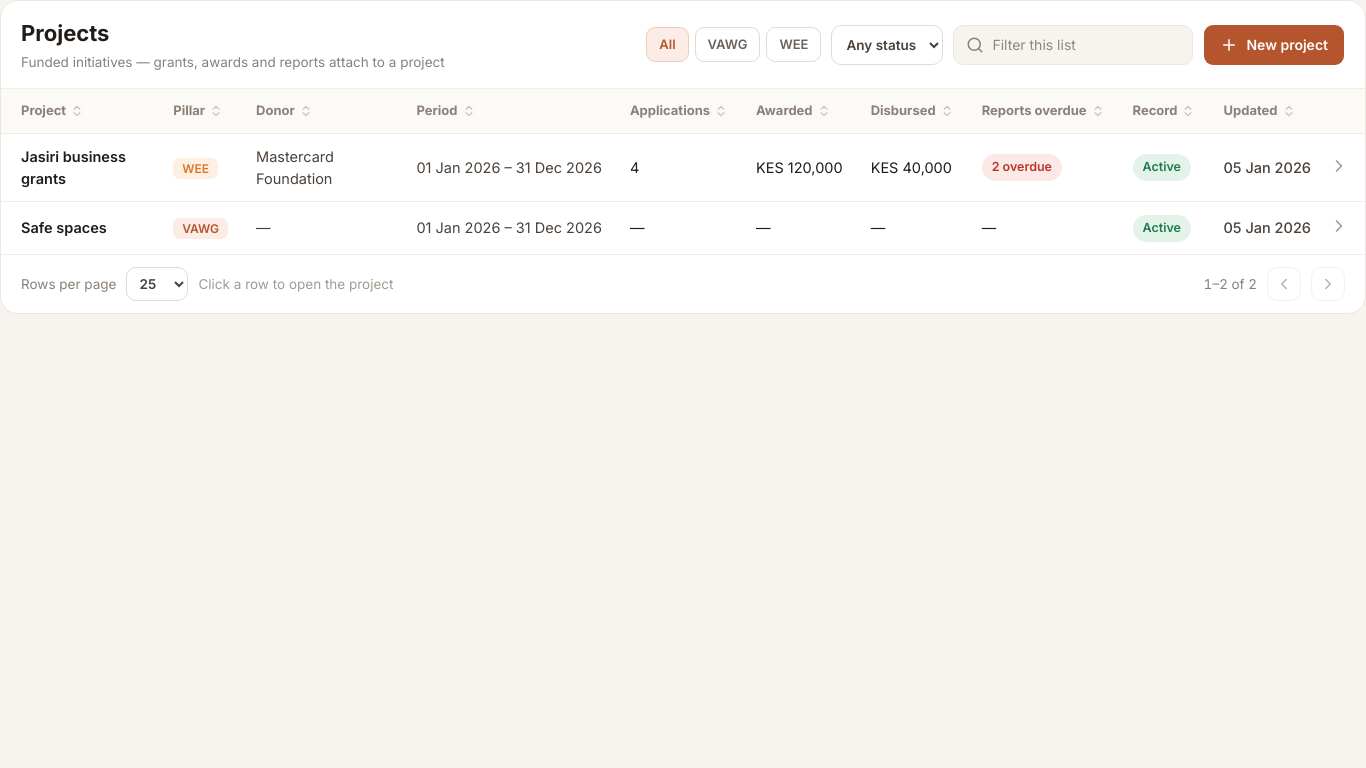
it: projects register › shows the API's refusal when a project cannot be deleted
The width and height of the screenshot is (1366, 768).
Step 1. Click the text "Jasiri business grants" → (73, 156), box [21, 148, 126, 187]
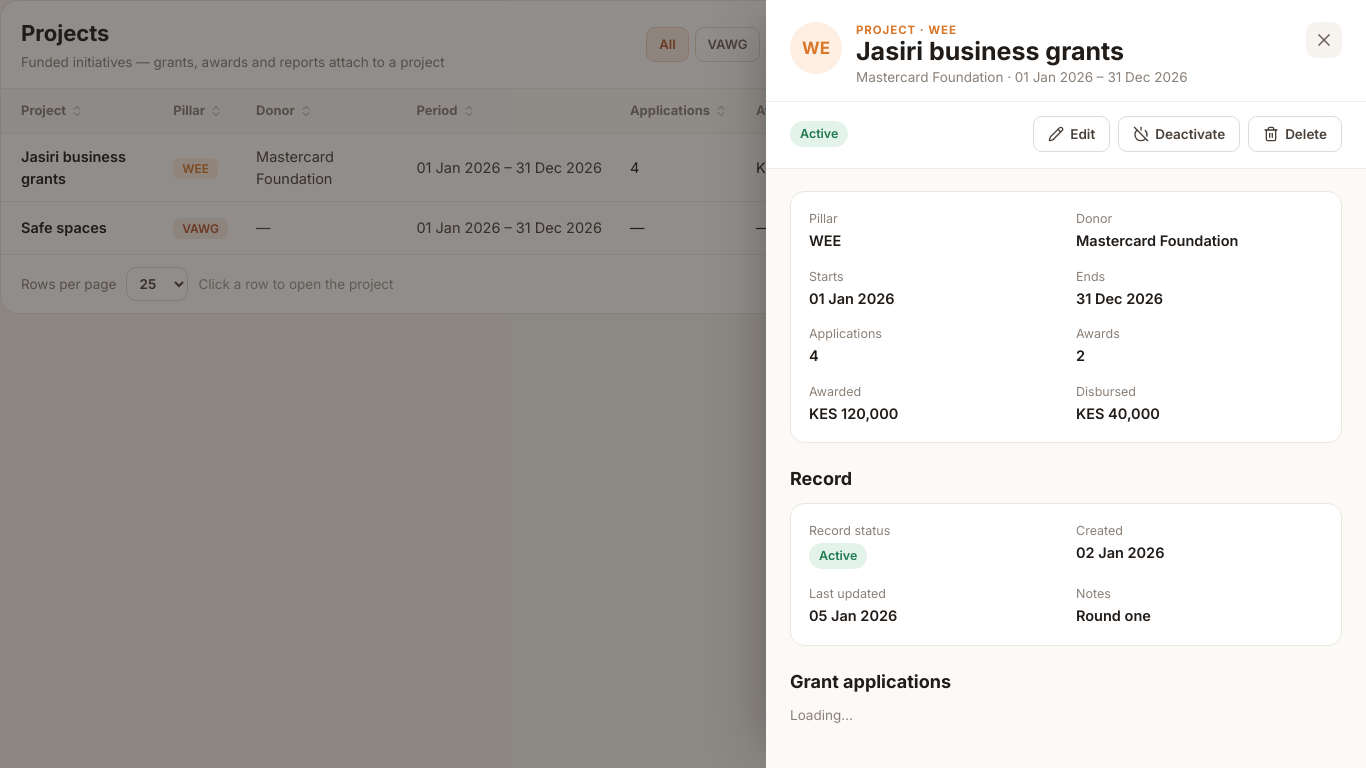
Step 2. Click the button "Delete" → (1295, 134), box [1248, 116, 1342, 152]
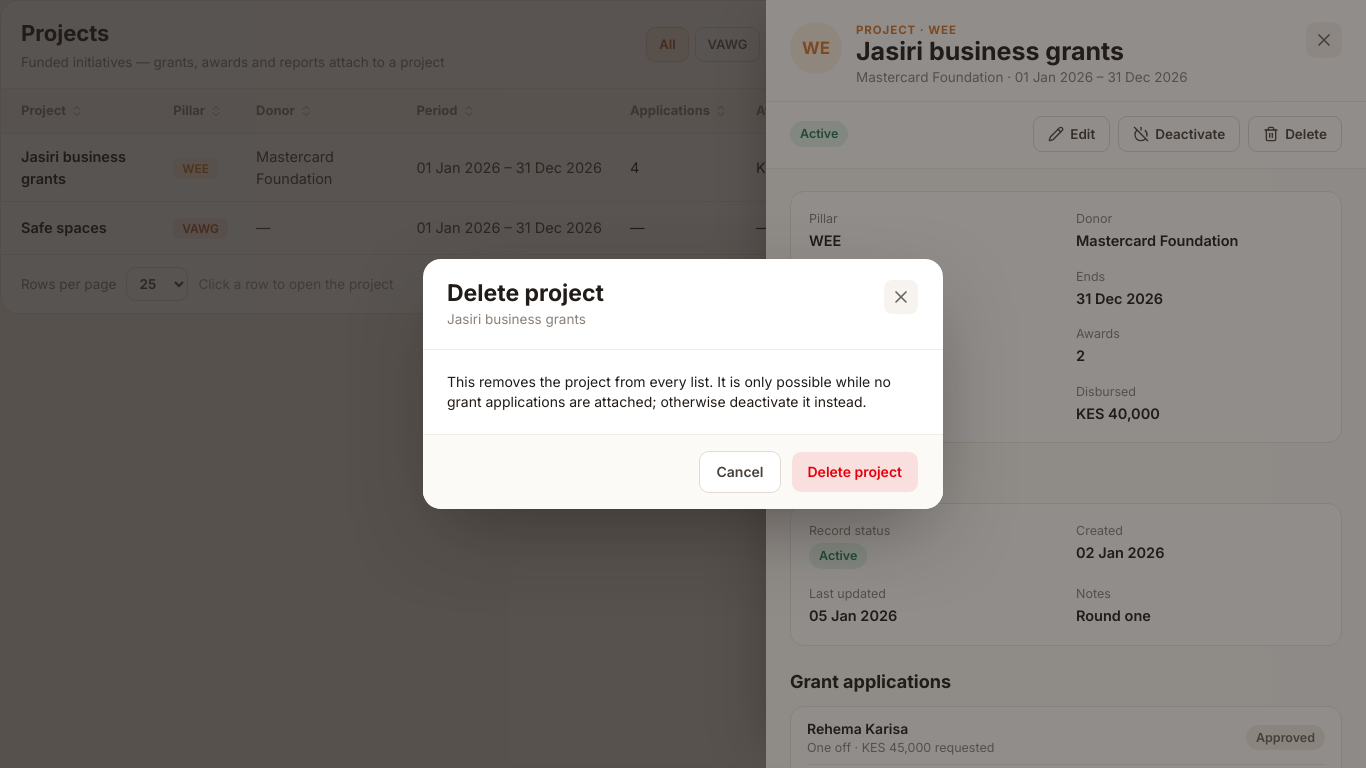
Step 3. Click the button "Delete project" → (855, 472), box [790, 451, 919, 493]
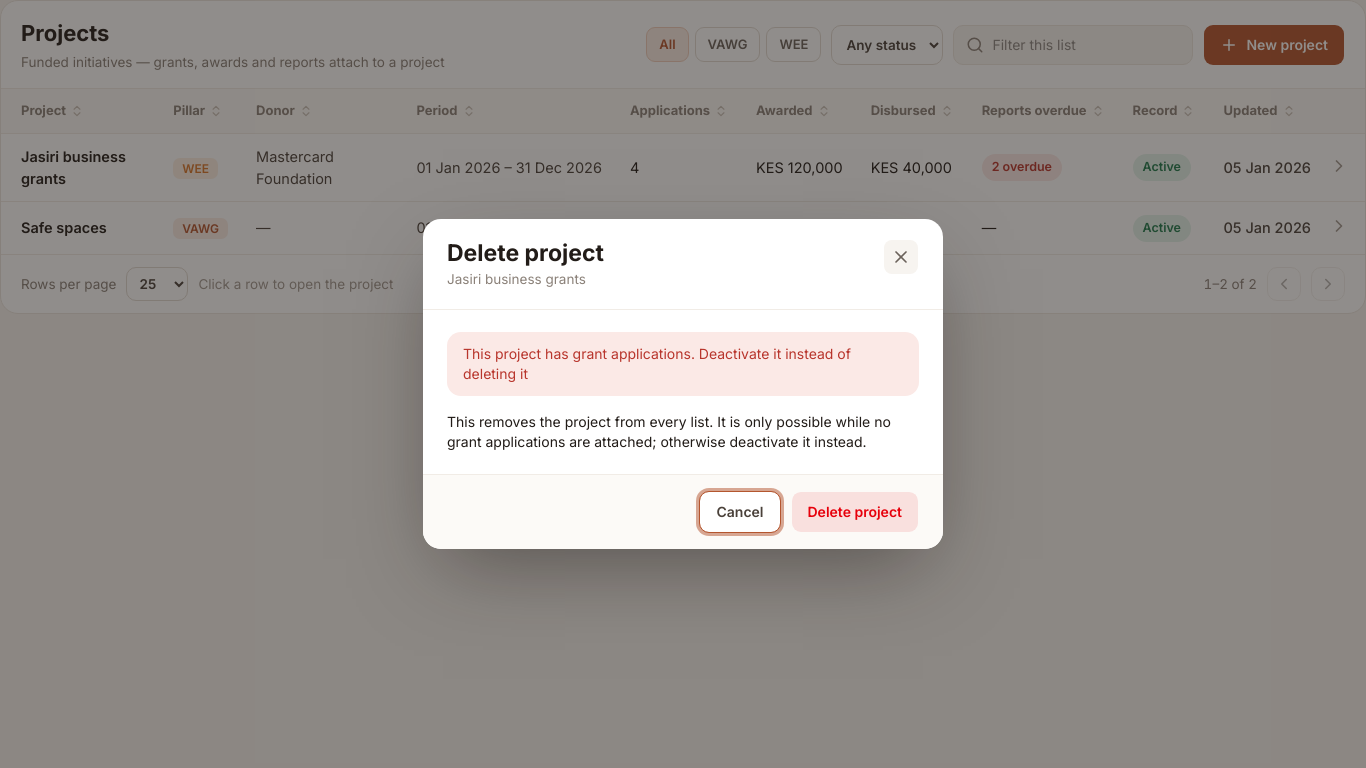
Result: the message shows "has grant applications" at [463, 345, 851, 382]
